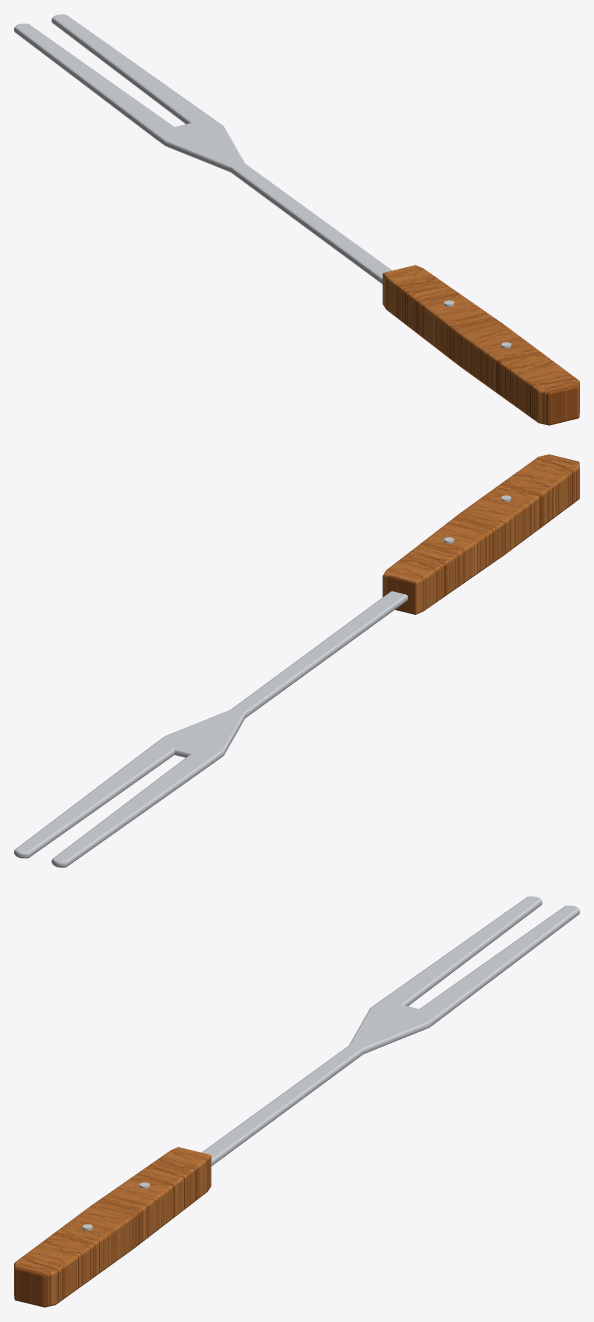
Rendered from CUB-35.glb.
3 renders of one model, top to bottom at view 1: azimuth 30°, elevation 25°; view 2: azimuth 150°, elevation 25°; view 3: azimuth 330°, elevation 25°, orthographic.
Bounding box in the file's own units: 0.0298 × 0.017 × 0.4516.
Materials: 4 (1 with a texture image).
